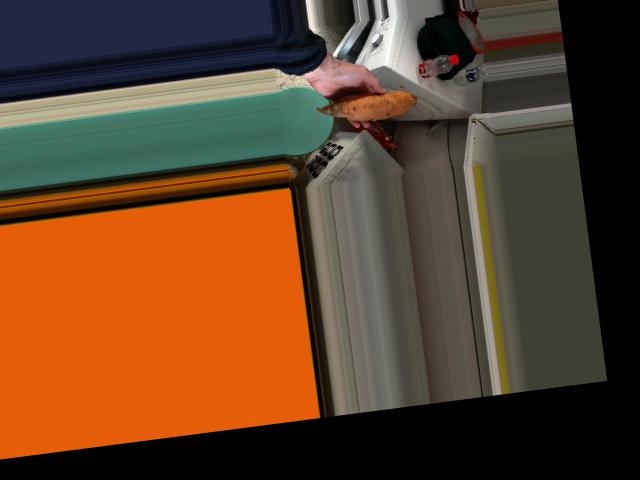sweet_potato: (334, 81, 406, 120)
